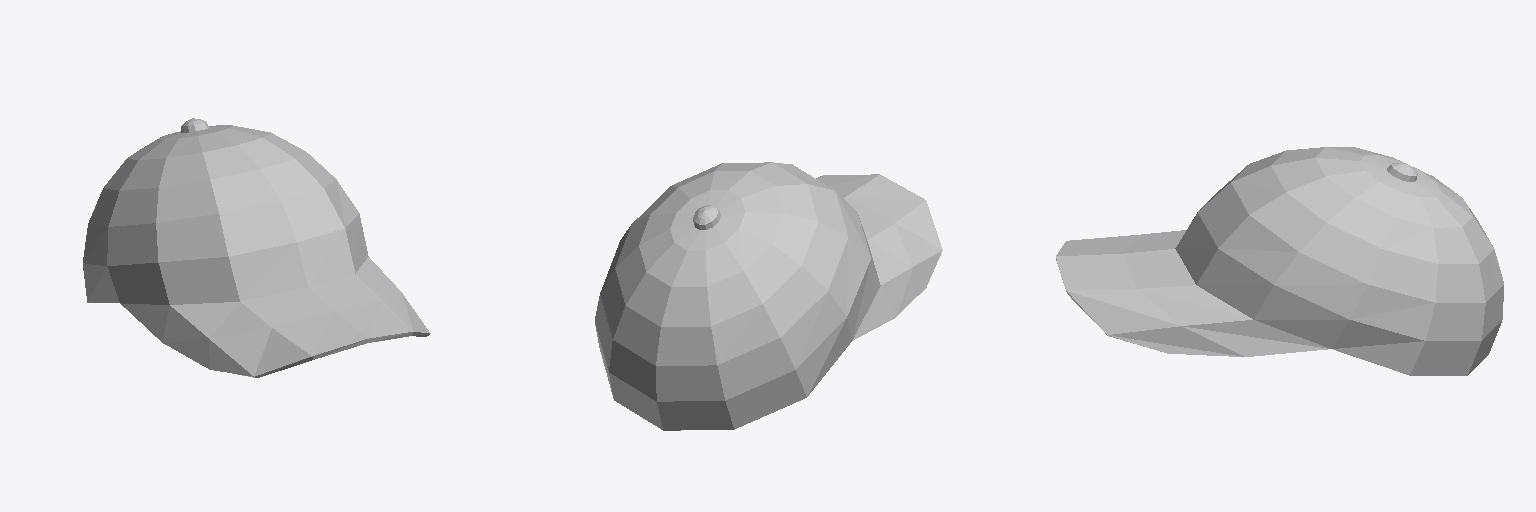
File: cap.obj
3 views of the same model, side by side, from view 1: azimuth 30°, elevation 25°; view 2: azimuth 150°, elevation 25°; view 3: azimuth 270°, elevation 25° (orthographic).
Bounding box in the file's own units: 1.81 × 1.49 × 3.09.